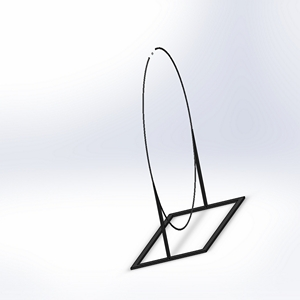circle: (130, 45, 243, 271)
